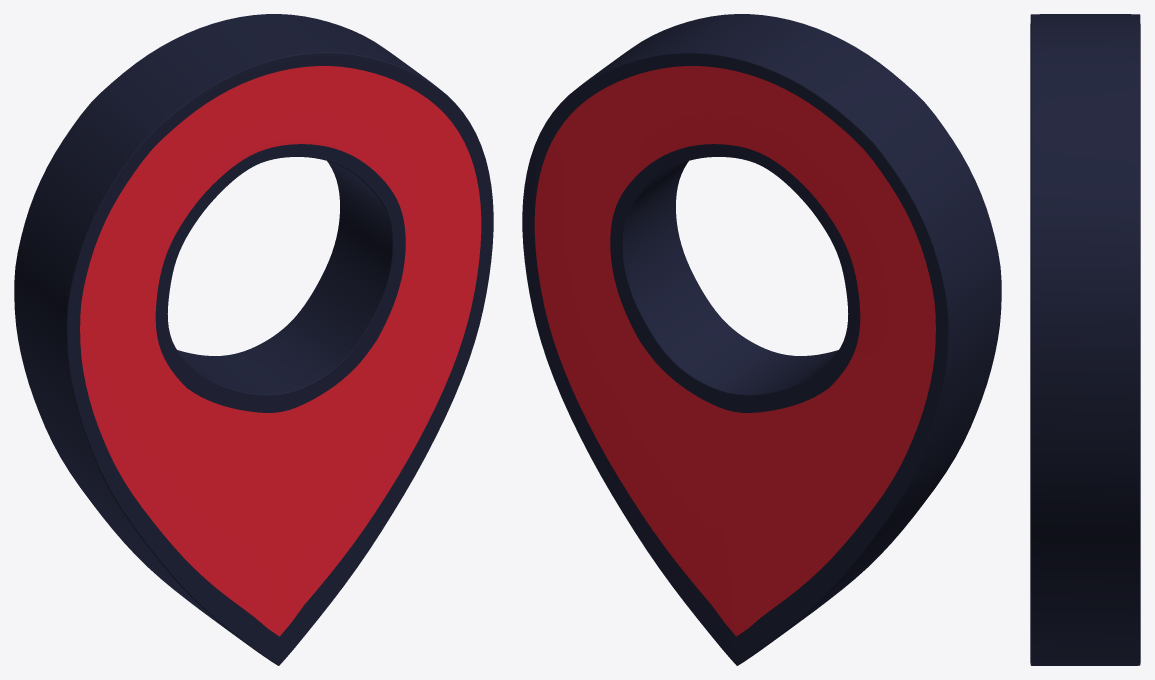
The model's file is Icon.gltf.
3 views of the same model, side by side, from view 1: azimuth 30°, elevation 25°; view 2: azimuth 150°, elevation 25°; view 3: azimuth 270°, elevation 25° (orthographic). The views are drawn at different scales.
Parts seen in each view (by area): view 1: ICON; view 2: ICON; view 3: ICON.
Part boxes in pixels (<box>): ICON: <box>14,14,493,665</box>; ICON: <box>522,14,1001,665</box>; ICON: <box>1030,14,1140,665</box>.
Size of the model in its own units: 0.0231 by 0.0314 by 0.005.
